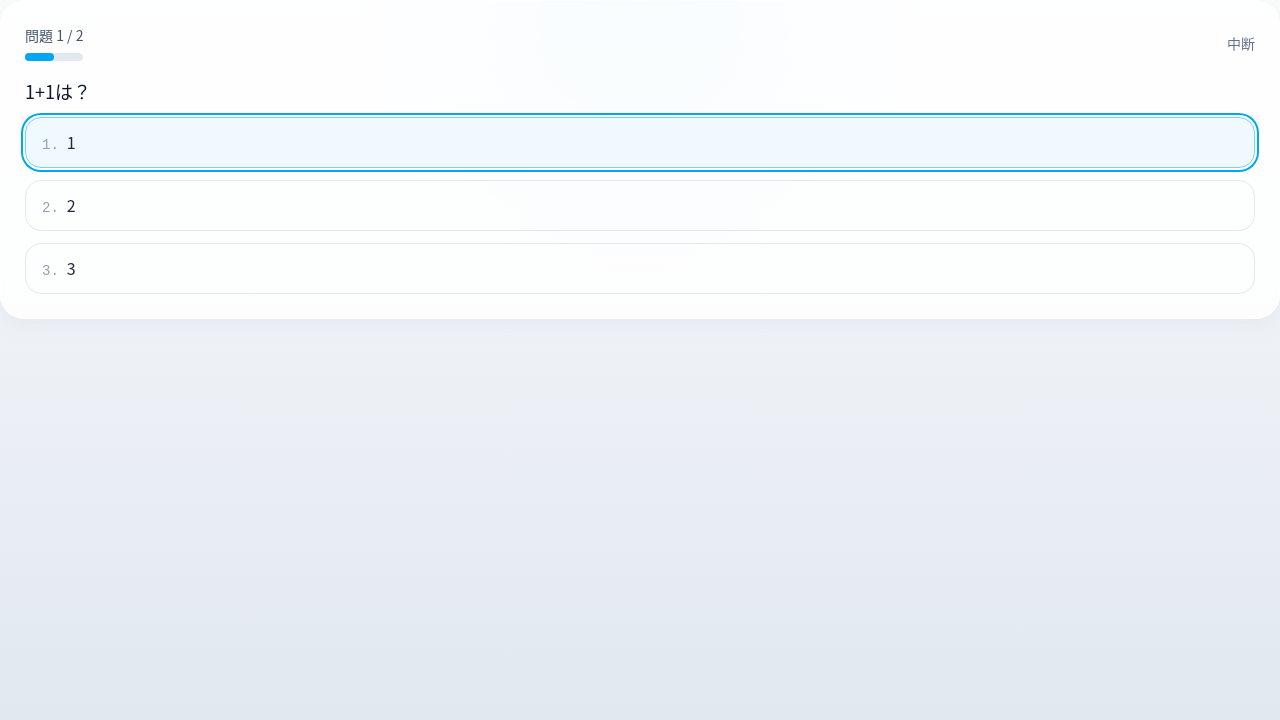
QuizPage › 問題表示 › 不正解の場合は不正解と表示される
Click the text "1" at (71, 142), box [67,130,76,154]
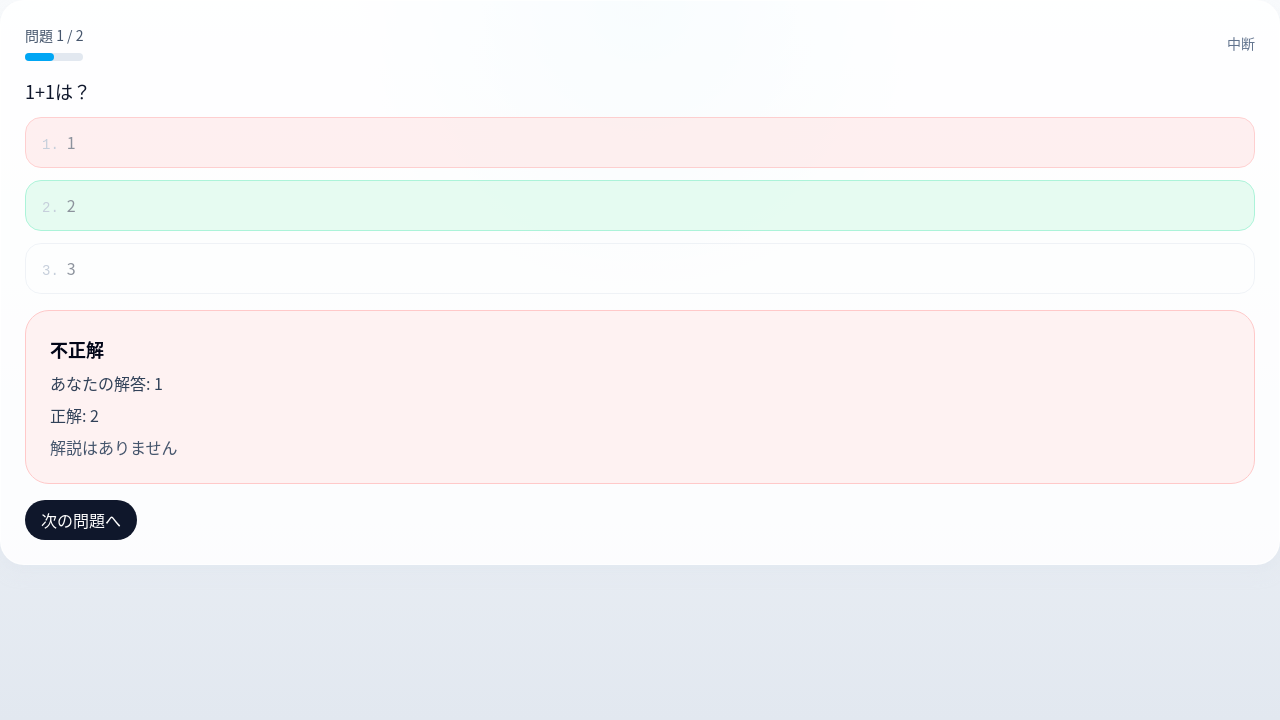
Expected: the text "不正解" is shown, [50,336,104,362]
